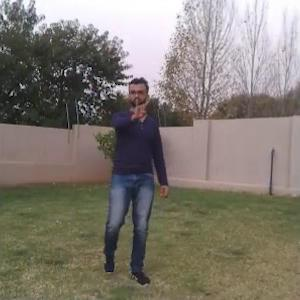takeoff-hand: (127, 90, 152, 122)
